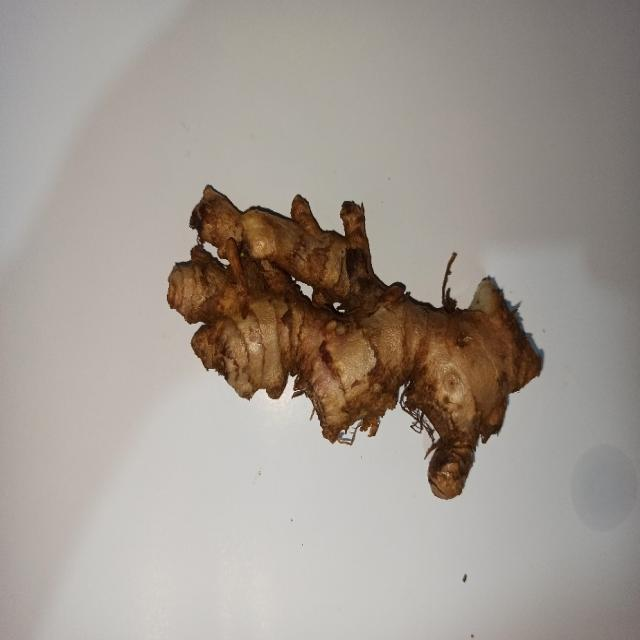ginger: (169, 186, 543, 501)
